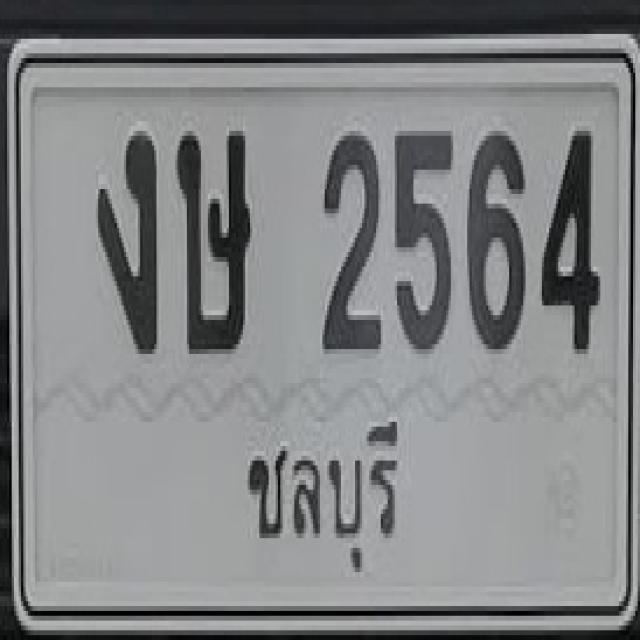license_plate: (8, 38, 640, 628)
